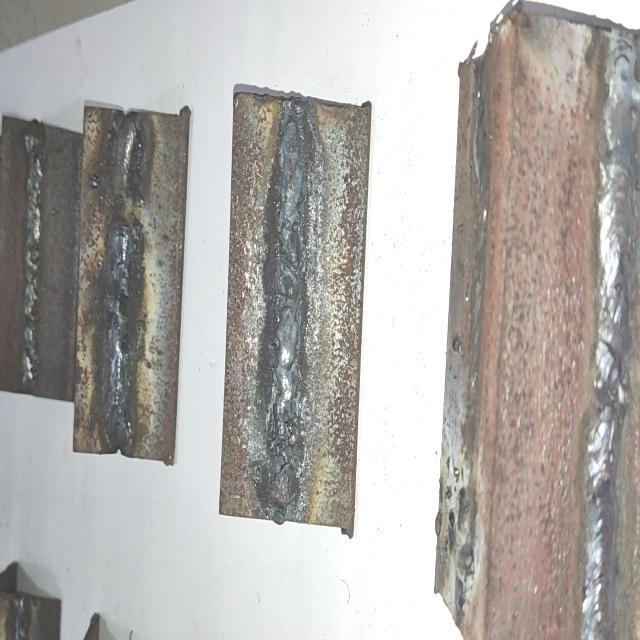Defect: (263, 378, 301, 512), (105, 302, 134, 439), (108, 156, 144, 256)
Welding Line: (582, 23, 638, 640), (264, 96, 306, 524), (107, 117, 144, 446), (20, 128, 44, 388)
Workpiece: (431, 1, 640, 640), (216, 73, 370, 539), (68, 90, 196, 468), (1, 112, 92, 408)
